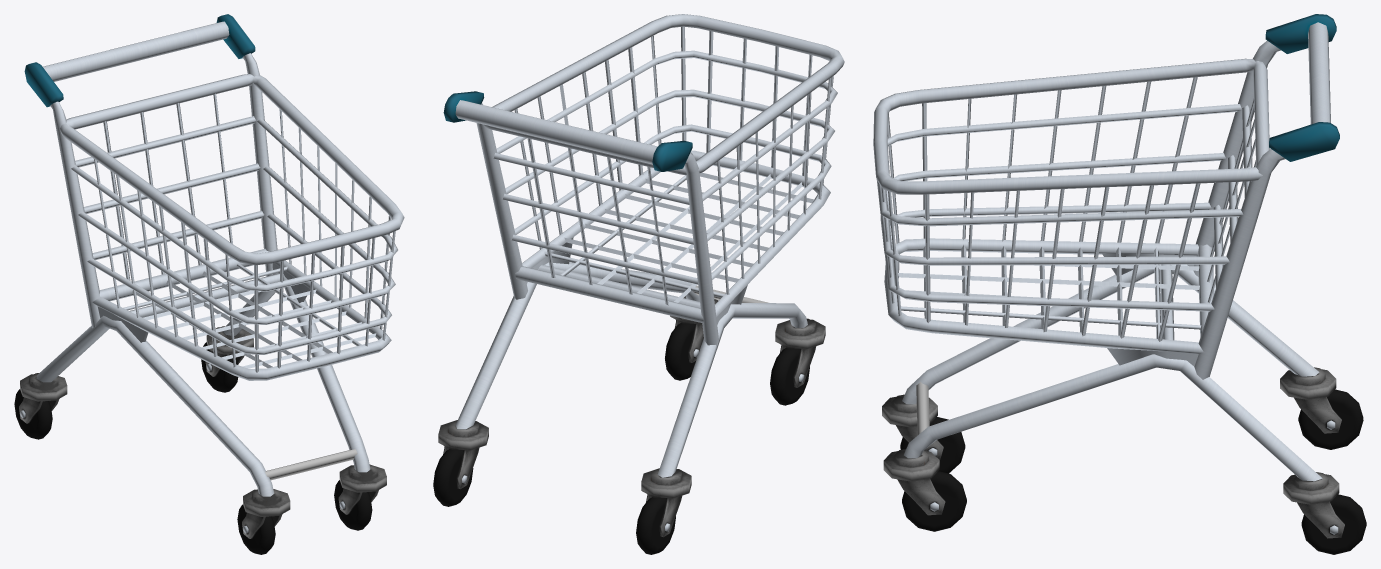
File: ShoppingCart.fbx
The picture shows the model from 3 angles, left to right: view 1: azimuth 30°, elevation 25°; view 2: azimuth 150°, elevation 25°; view 3: azimuth 270°, elevation 25°; orthographic projection. The views are drawn at different scales.
Parts seen in each view (by area): view 1: ShoppingCart; view 2: ShoppingCart; view 3: ShoppingCart.
Part boxes in pixels (left/top/right/bottom): ShoppingCart: left=14, top=14, right=404, bottom=554; ShoppingCart: left=433, top=14, right=844, bottom=554; ShoppingCart: left=873, top=14, right=1366, bottom=554.
Size of the model in its own units: 62.41 by 97.65 by 101.
